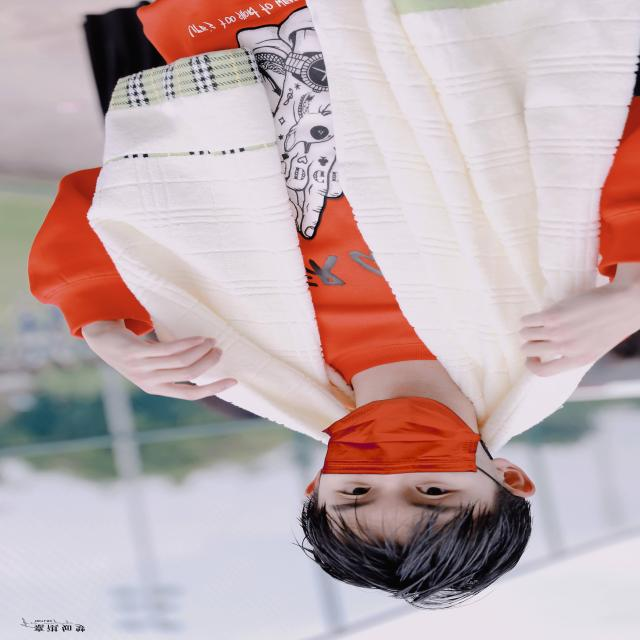mask: (304, 391, 500, 484)
